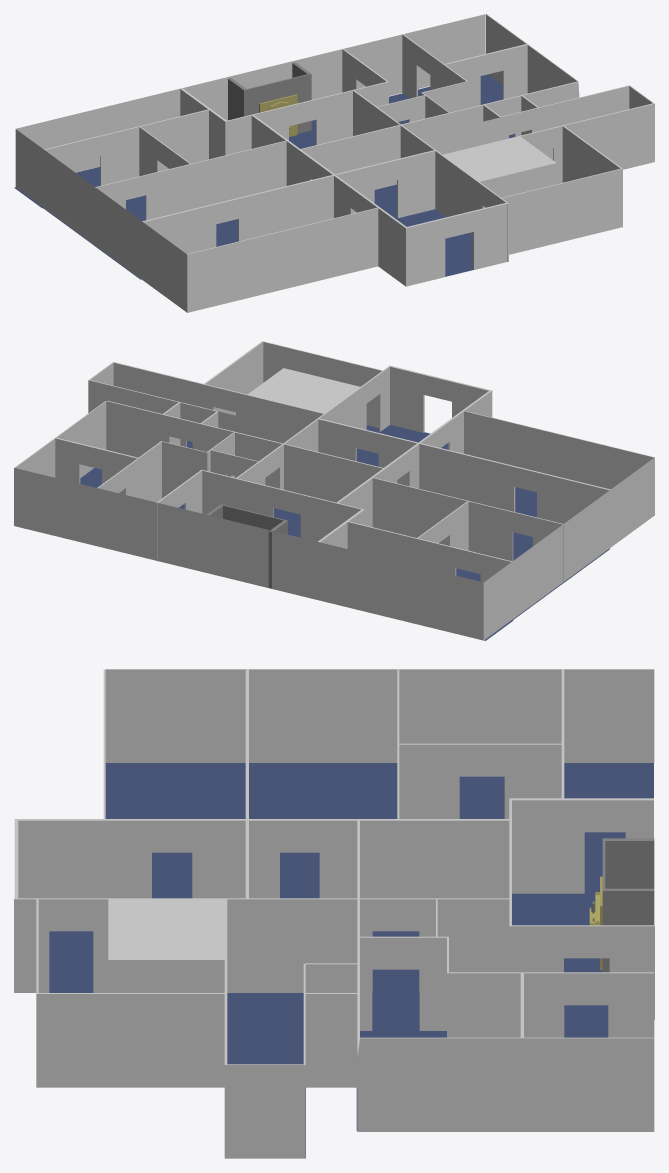
The model's file is bank rubbery.fbx.
3 views of the same model, one above another, from view 1: azimuth 30°, elevation 25°; view 2: azimuth 150°, elevation 25°; view 3: azimuth 270°, elevation 25° (orthographic). The views are drawn at different scales.
Parts seen in each view (by area): view 1: Walls, flooring, Vault_Wall, Vault_Door2; view 2: Walls, flooring, Vault_Wall; view 3: Walls, flooring, Vault_Wall.
Boxes of the visible parts, x1,y1,x2,y2 form: Walls: [15, 14, 654, 312]; flooring: [14, 74, 514, 279]; Vault_Wall: [228, 62, 311, 133]; Vault_Door2: [259, 94, 297, 136]; Walls: [14, 341, 654, 640]; flooring: [80, 425, 609, 640]; Vault_Wall: [207, 504, 287, 588]; Walls: [14, 669, 654, 1158]; flooring: [49, 763, 653, 1157]; Vault_Wall: [602, 838, 654, 972].
Bounding box in the file's own units: 355 × 39.57 × 242.
